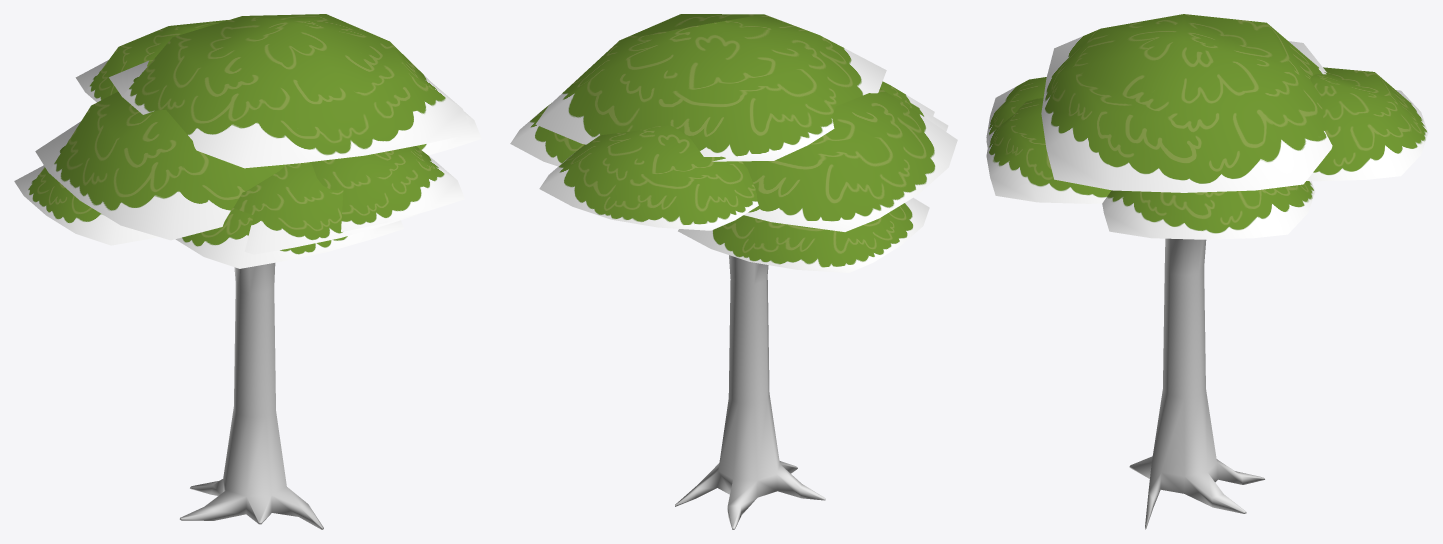
Rendered from tree 3.FBX.
3 views of the same model, side by side, from view 1: azimuth 30°, elevation 25°; view 2: azimuth 150°, elevation 25°; view 3: azimuth 270°, elevation 25° (orthographic). The views are drawn at different scales.
Parts seen in each view (by area): view 1: Plane025, Plane024, T3, Plane017, Plane018, Plane016, Plane023, Plane019, Plane022; view 2: Plane025, Plane024, Plane019, T3, Plane023, Plane022; view 3: Plane025, T3, Plane019, Plane022, Plane017, Plane018.
Boxes of the visible parts, x1,y1,x2,y2 form: Plane025: (109, 14, 472, 168); Plane024: (35, 91, 285, 240); T3: (179, 263, 323, 529); Plane017: (311, 146, 464, 231); Plane018: (233, 162, 418, 254); Plane016: (175, 208, 404, 268); Plane023: (14, 165, 158, 245); Plane019: (75, 20, 228, 102); Plane022: (416, 111, 481, 155); Plane025: (535, 14, 886, 161); Plane024: (742, 88, 957, 231); Plane019: (539, 125, 758, 230); T3: (675, 255, 825, 529); Plane023: (678, 197, 929, 272); Plane022: (510, 104, 584, 166); Plane025: (1041, 14, 1332, 192); T3: (1129, 238, 1264, 529); Plane019: (1306, 67, 1428, 181); Plane022: (1102, 181, 1315, 239); Plane017: (986, 98, 1111, 203); Plane018: (986, 77, 1046, 145).
Bounding box in the file's own units: 166 × 200 × 165.
